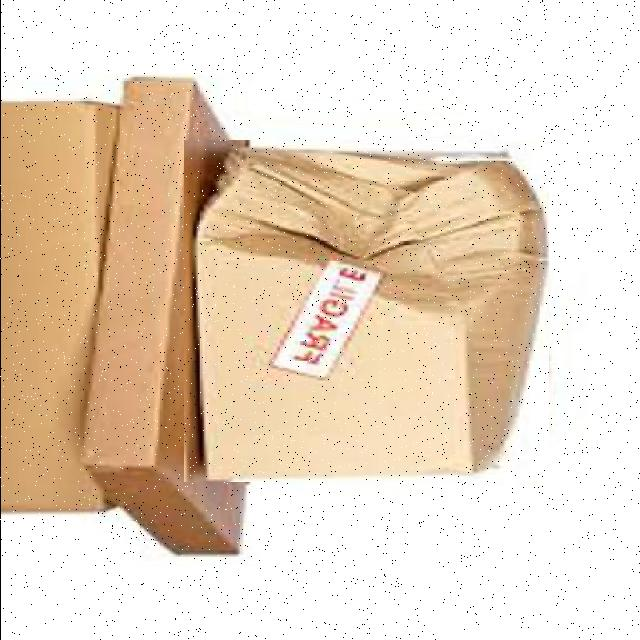defect: (183, 140, 548, 482)
